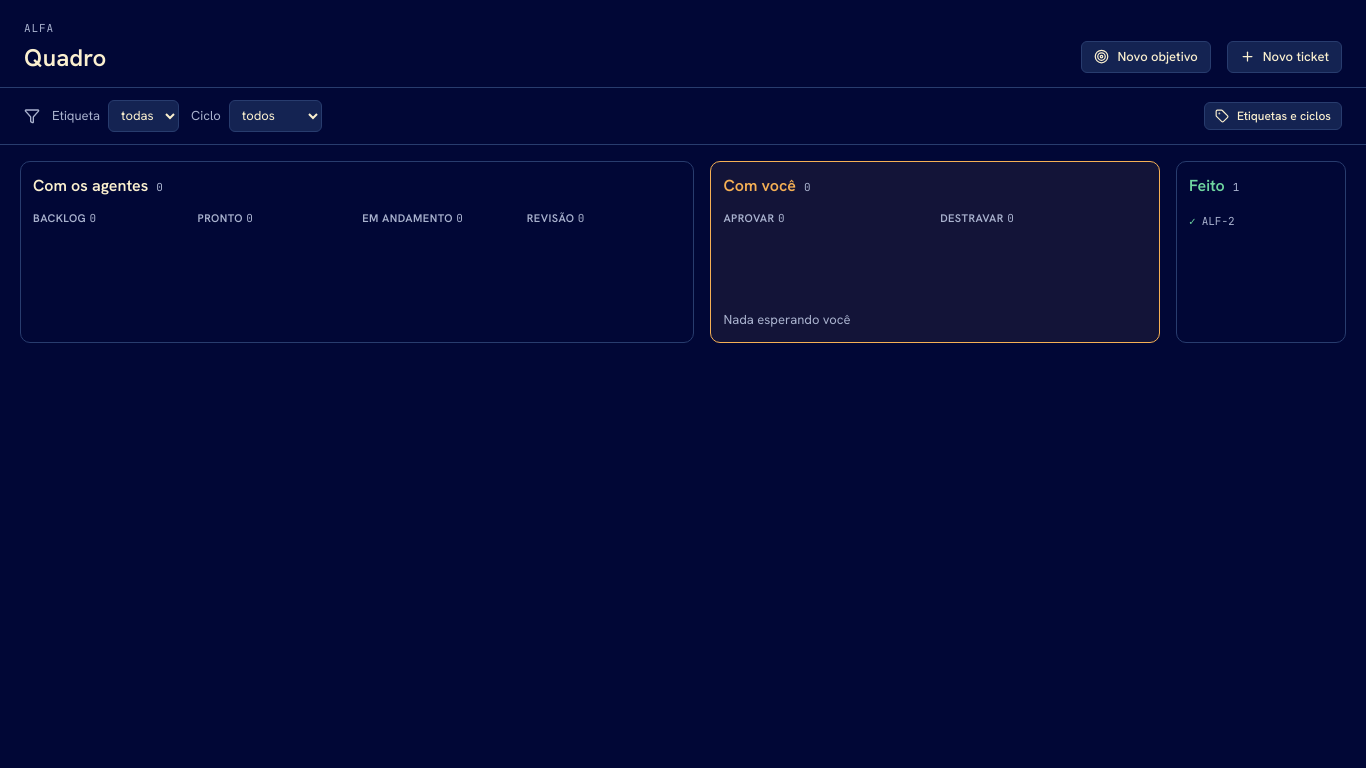
Test case: board: project selector and the ticket branch › a merged branch has no actions left
Step 1. Click the button with aria-label "ALF-2: Função" → (1261, 221), box [1189, 210, 1333, 232]
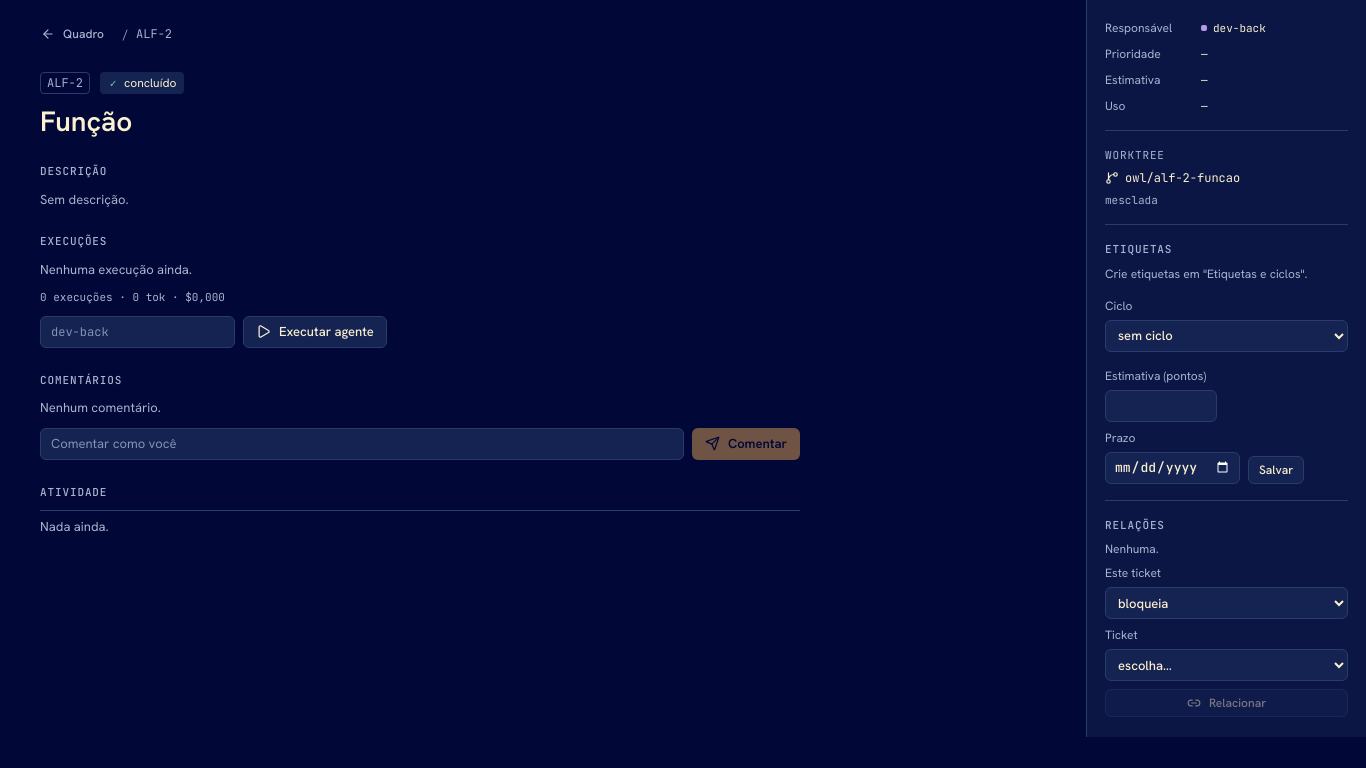
Result: the element named "Branch do ticket" shows "mesclada" at [1105, 192, 1158, 206]
